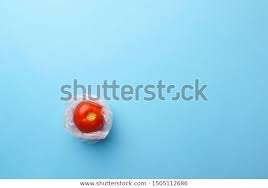tomato: (74, 101, 105, 132)
